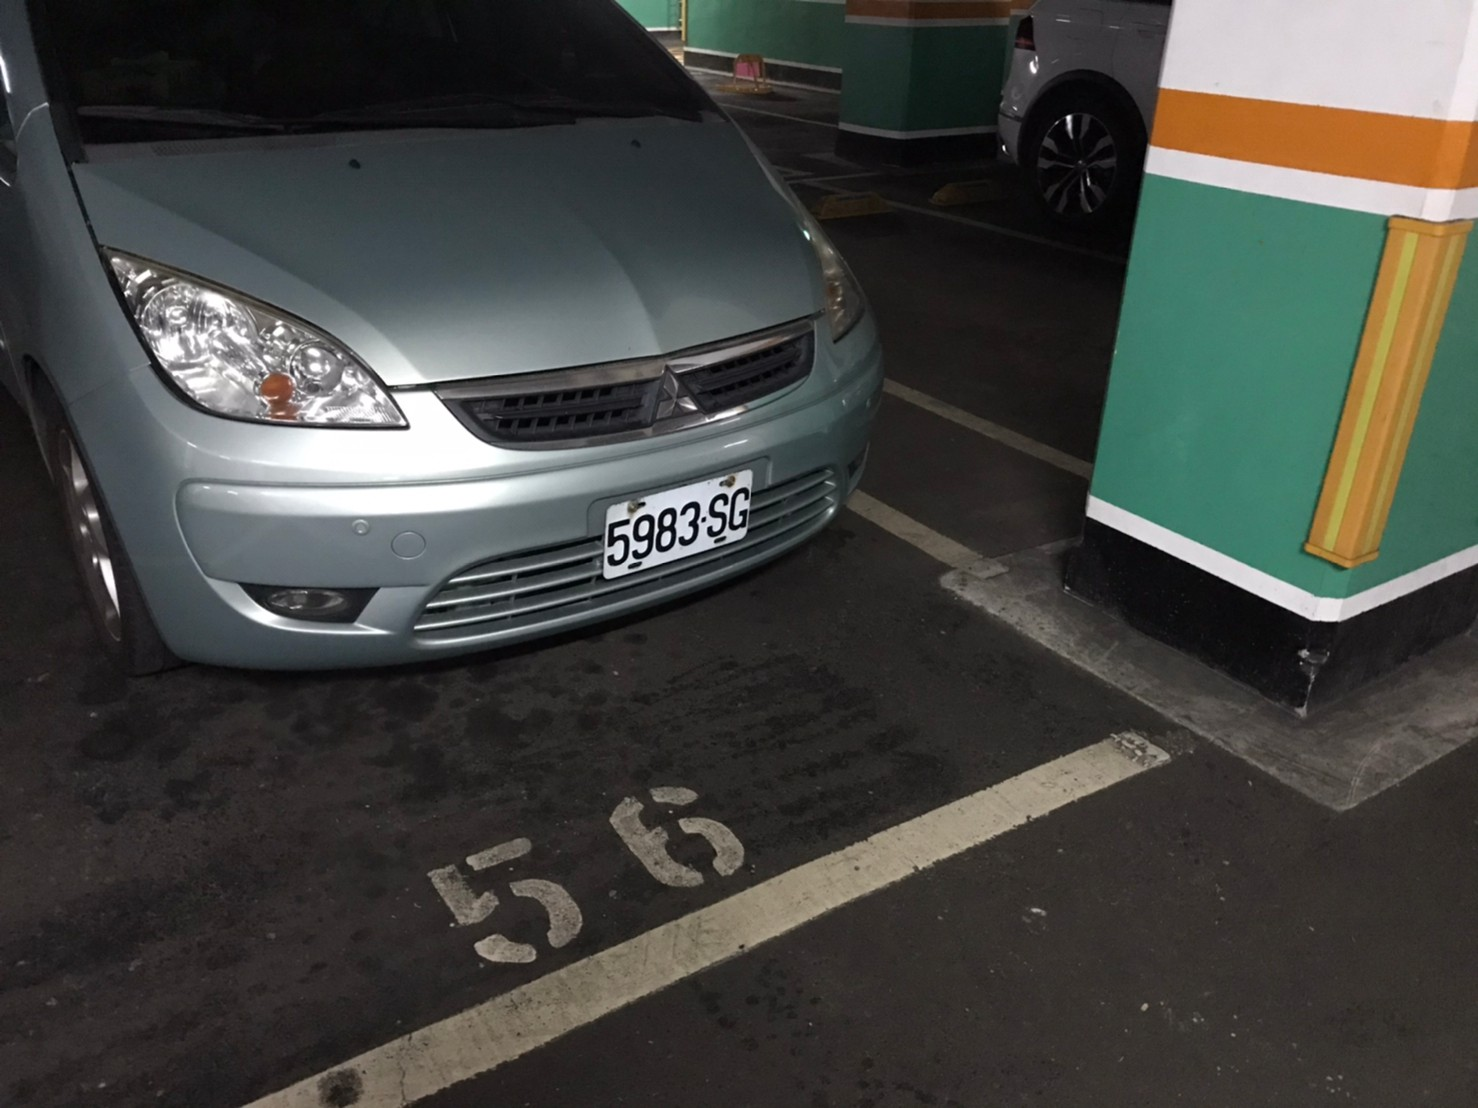LP: (598, 473, 752, 582)
